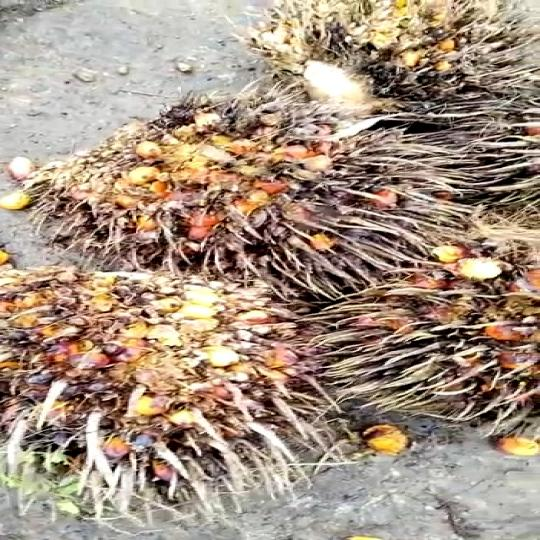terlalu masak: (19, 95, 453, 298), (0, 272, 314, 523), (211, 0, 540, 119)
